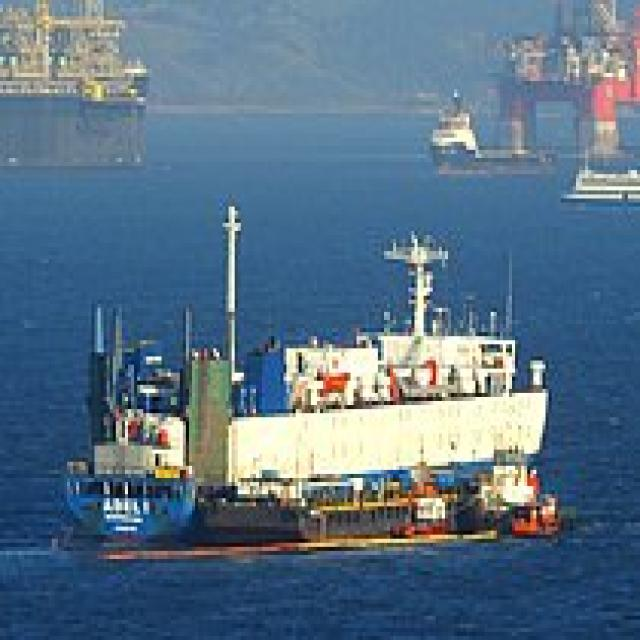Carrier: (58, 194, 552, 559)
